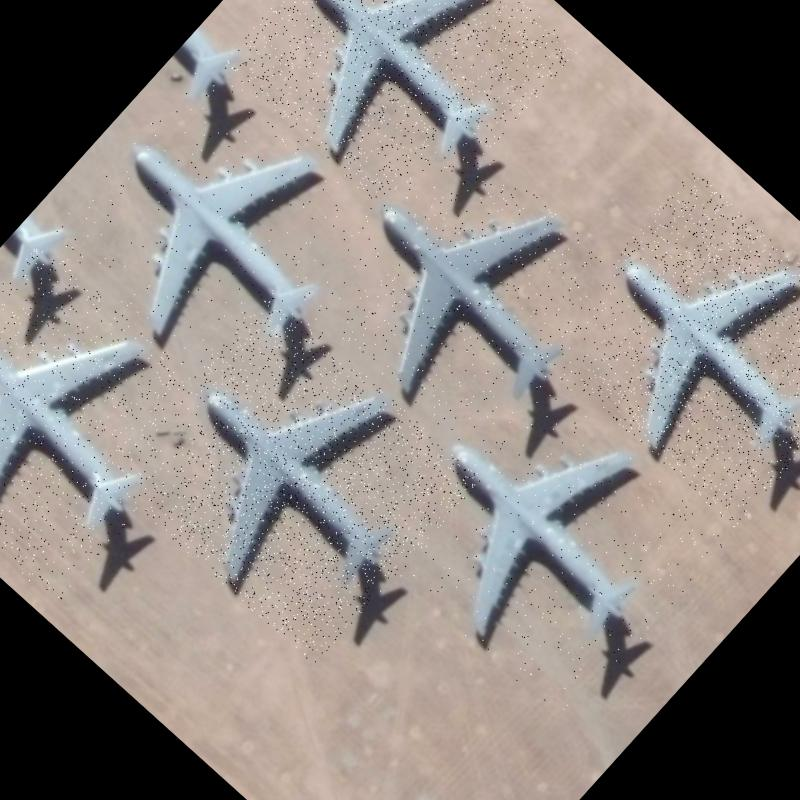A4: (103, 290, 481, 666), (43, 58, 412, 425), (360, 358, 728, 724), (293, 119, 654, 477), (532, 168, 800, 528), (0, 239, 230, 606), (218, 0, 577, 235)
